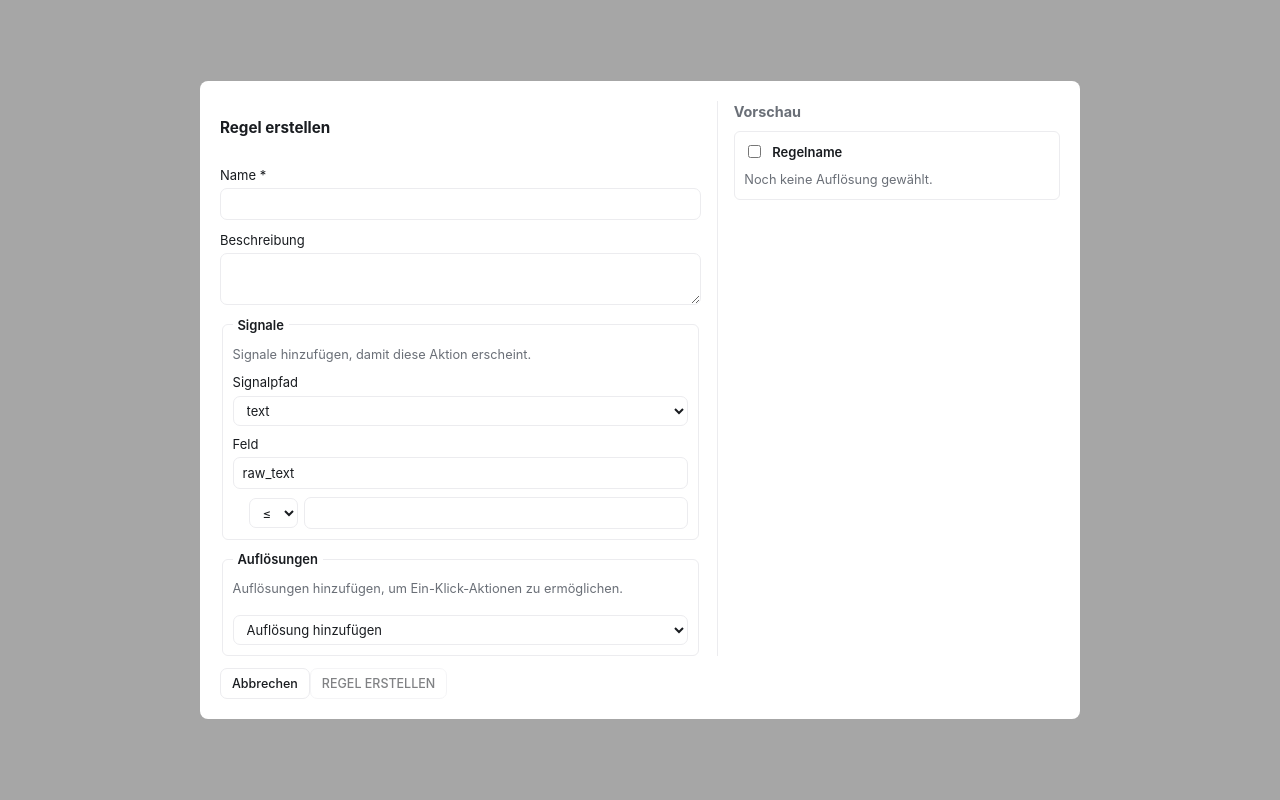
Test: CreateRuleModal › reveals the assignee field only once a resolution exists
Expected: the field labelled "Zuständig" is not shown
Select "Erledigen" in the dropdown named "Auflösung hinzufügen": (460, 630) [233, 615, 688, 645]
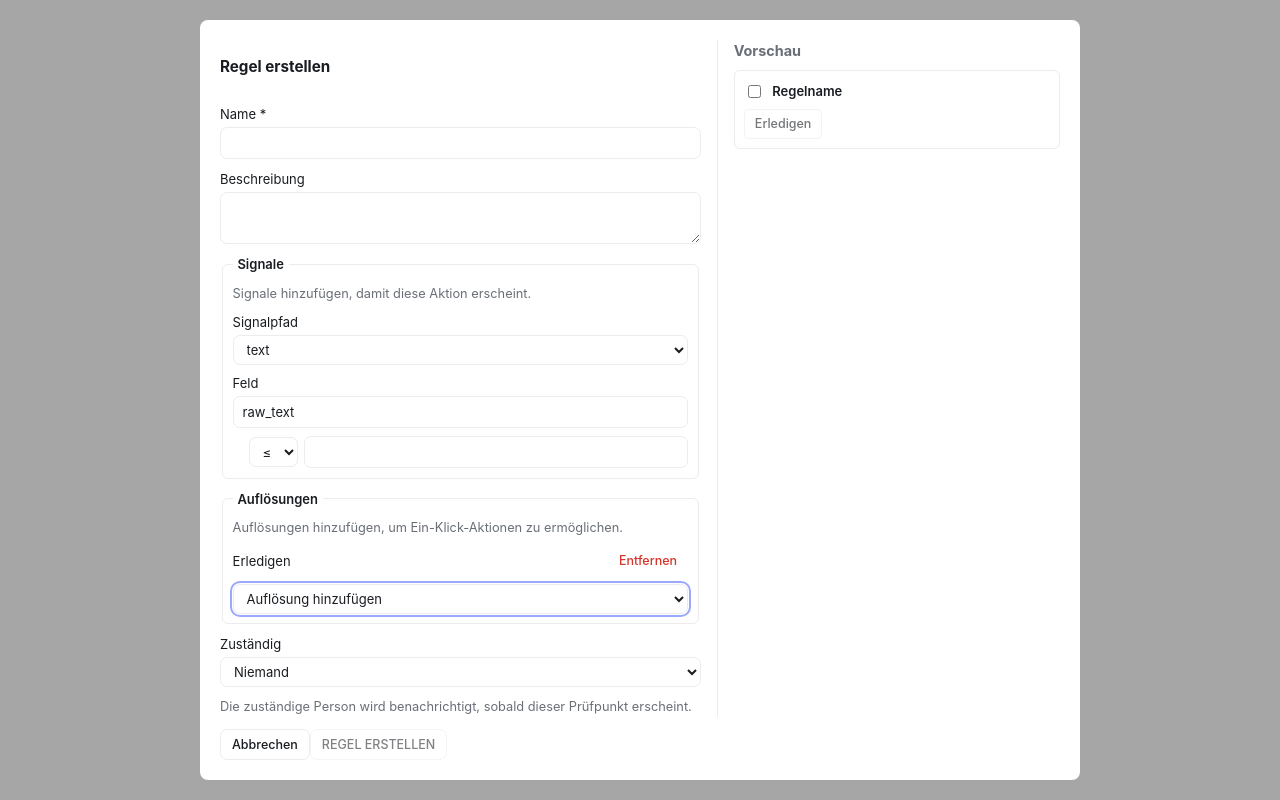
Result: the dropdown labelled "Zuständig" is shown at [220, 657, 701, 687]
